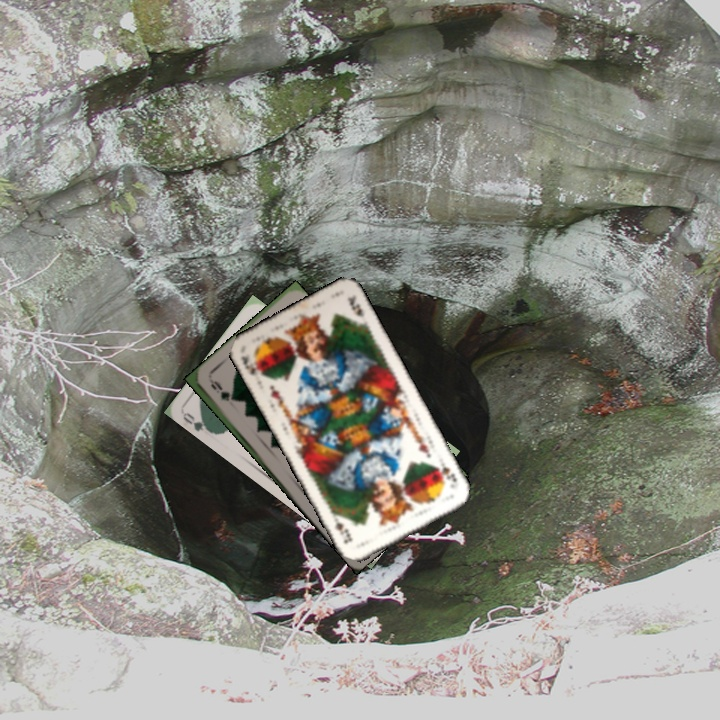G9: (206, 376, 232, 404)
GO: (179, 408, 217, 436)
SK: (236, 352, 268, 380), (432, 456, 460, 486)
